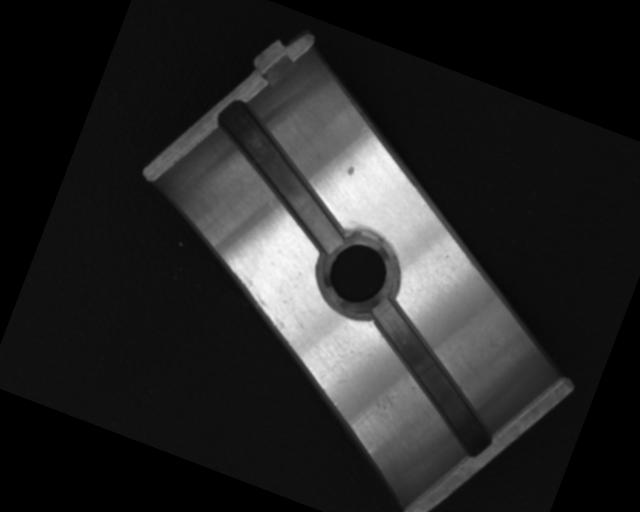bruise: (345, 163, 358, 176)
gap: (338, 295, 525, 460), (187, 96, 374, 257)
hole: (314, 225, 406, 323)
